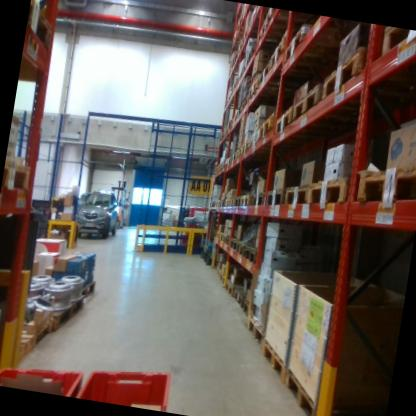pallet: (319, 40, 398, 117), (277, 14, 347, 87), (279, 368, 366, 416), (304, 162, 366, 227), (356, 149, 416, 213), (371, 28, 416, 90), (47, 283, 90, 344), (22, 0, 62, 64), (0, 144, 38, 208), (291, 76, 326, 134), (254, 336, 290, 388), (241, 239, 291, 272), (16, 294, 58, 333), (258, 108, 298, 148), (245, 79, 299, 108), (256, 7, 294, 46), (268, 30, 295, 80), (282, 174, 312, 216), (270, 101, 296, 149), (10, 323, 36, 367), (240, 317, 267, 359), (30, 310, 55, 355), (71, 268, 103, 303), (235, 235, 264, 264), (265, 181, 288, 215), (256, 55, 275, 89), (223, 277, 246, 301), (227, 108, 246, 137), (249, 185, 268, 213), (232, 284, 252, 308), (241, 46, 258, 72), (240, 293, 254, 321), (239, 190, 255, 213), (240, 134, 253, 159), (249, 123, 261, 149), (226, 232, 238, 254), (234, 69, 248, 87), (235, 17, 246, 39), (218, 270, 232, 287), (240, 92, 251, 113), (228, 77, 238, 96), (227, 147, 236, 168), (220, 229, 231, 246), (227, 195, 237, 211), (234, 194, 243, 211), (213, 266, 223, 281), (212, 198, 222, 211), (218, 227, 226, 243), (233, 146, 242, 160), (219, 196, 227, 210), (224, 196, 231, 210), (214, 227, 221, 240), (171, 221, 180, 227), (171, 219, 180, 222)
small_load_carrier: (75, 352, 181, 411), (0, 344, 86, 395)
